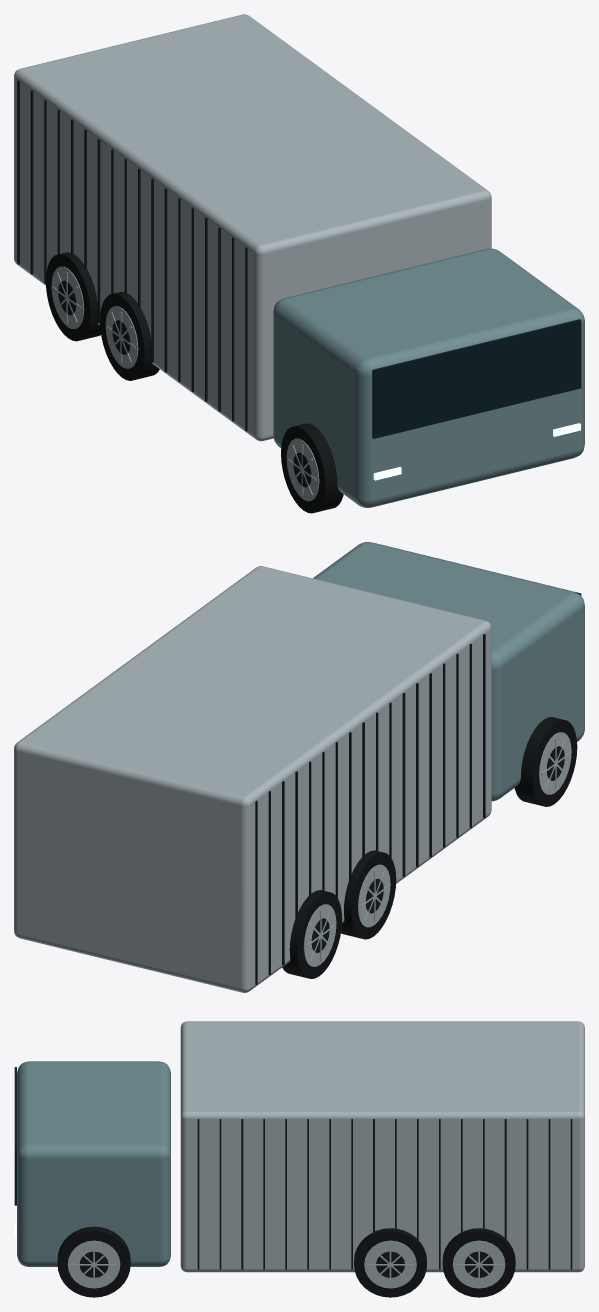
File: truck.glb
The picture shows the model from 3 angles, top to bottom: view 1: azimuth 30°, elevation 25°; view 2: azimuth 150°, elevation 25°; view 3: azimuth 270°, elevation 25°; orthographic projection. The views are drawn at different scales.
Visible parts, largest first — view 1: Barak_truck; view 2: Barak_truck; view 3: Barak_truck.
Boxes of the visible parts, left/top/right/bottom form: Barak_truck: left=14, top=14, right=584, bottom=513; Barak_truck: left=14, top=542, right=584, bottom=992; Barak_truck: left=14, top=1021, right=584, bottom=1297.
Bounding box in the file's own units: 6.24 × 5.18 × 14.83.
